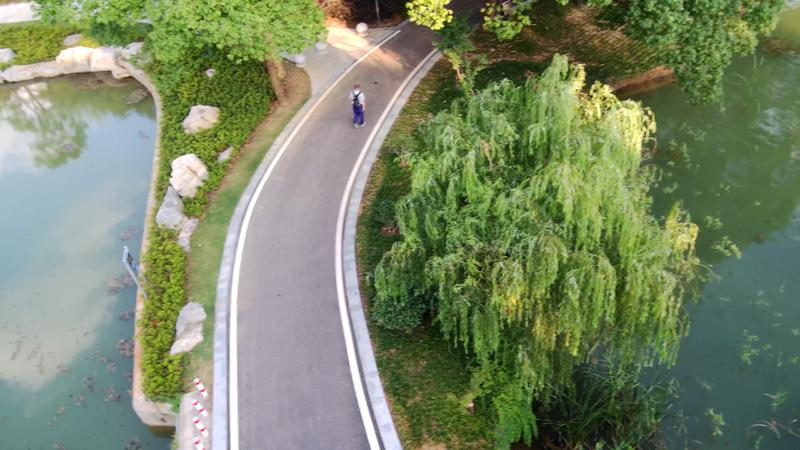passerby: (347, 79, 367, 128)
